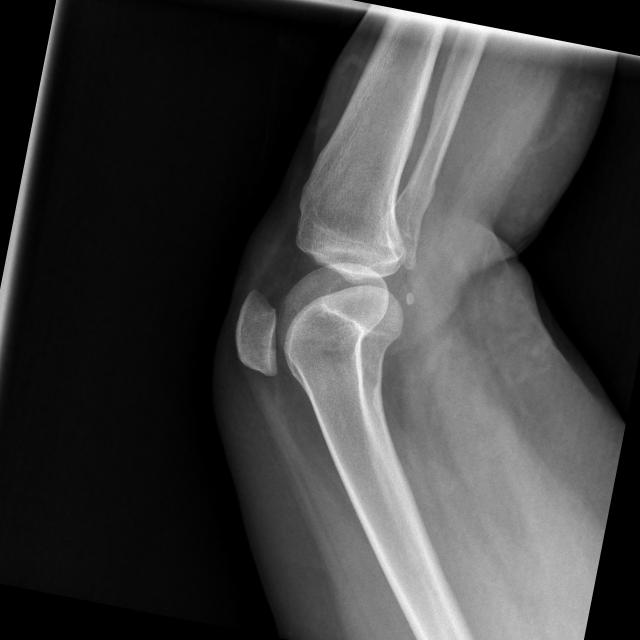Knee: (227, 190, 426, 404)
